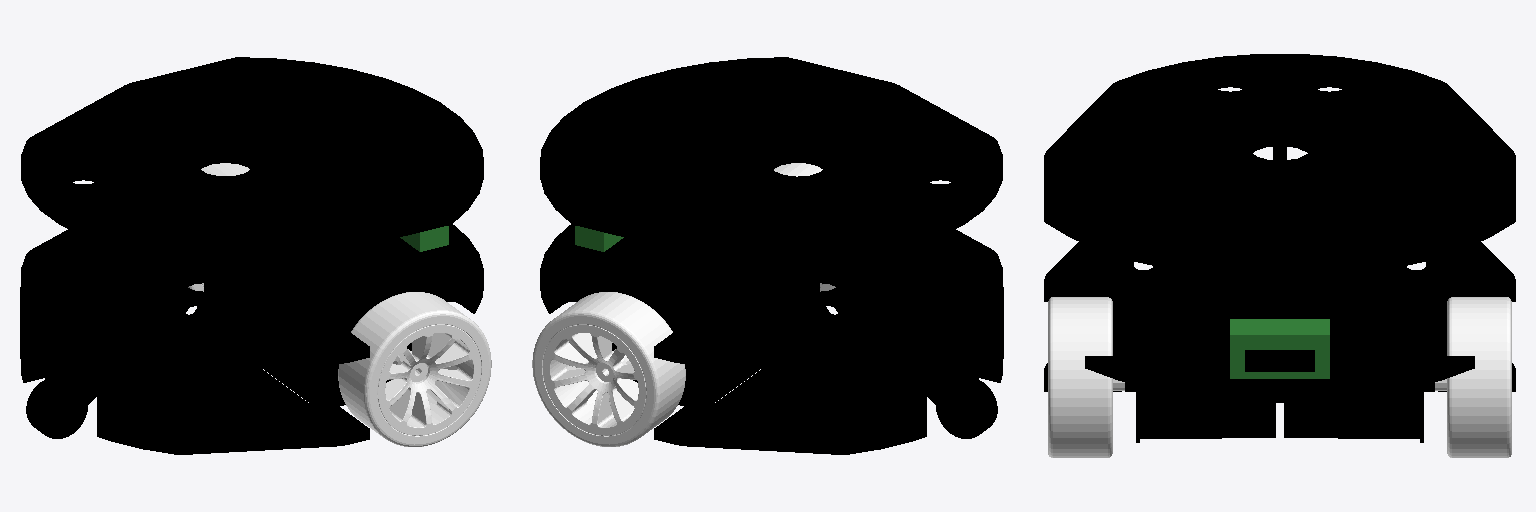
The robot description file, URDF, robot "smart_car":
<?xml version="1.0"?>
<robot name="smart_car">
    <material name="black">
        <color rgba="0 0 0 1"/>
    </material>
    <material name="white">
        <color rgba="1 1 1 1"/>
    </material>
    <material name="blue">
        <color rgba="0.0 0.0 0.8 1.0"/>
    </material>

    <link name="base_footprint"/>
    
    <joint name="bash_link_joint" type="fixed">
        <axis rpy="0 0 0" xyz="0 0 0"/>
        <origin rpy="0 0 0" xyz="0 0 0.0565"/>
        <parent link="base_footprint"/>
        <child link="base_link"/>
    </joint>

    <link name="base_link">
        <visual>
            <origin xyz="0 0 0" rpy="0 0 0"/>
            <geometry>
                <mesh filename="package://robot_description/meshes/base_link.dae"/>
            </geometry>
            <material name="black"/>
        </visual>
        <inertial>
            <origin xyz="-0.036932 -3.6183E-09 5.4279E-05" rpy="0 0 0"/>
            <mass value="0.62461"/>
            <inertia ixx="0.002014" ixy="3.2092E-10" ixz="-5.0446E-05" iyy="0.0023871" iyz="5.0493E-08" izz="0.0027336"/>
        </inertial>
        <collision>
            <origin xyz="0 0 0" rpy="0 0 0"/>
            <geometry>
                <mesh filename="package://robot_description/meshes/base_link.dae"/>
            </geometry>
        </collision>
    </link>


    <link name="right_wheel">
        <visual>
            <origin xyz="0 0 0" rpy="0 0 0"/>
            <geometry>
                <mesh filename="package://robot_description/meshes/right_wheel.dae"/>
            </geometry>
            <material name="white"/>
        </visual>
        <inertial>
            <origin xyz="0 -0.0033767 0" rpy="0 0 0"/>
            <mass value="0.052928"/>
            <inertia ixx="2.1269E-05" ixy="-7.7807E-22" ixz="2.6095E-21" iyy="3.6821E-05" iyz="-1.6034E-21" izz="2.1269E-05"/>
        </inertial>
        <collision>
            <origin xyz="0 0 0" rpy="0 0 0"/>
            <geometry>
                <mesh filename="package://robot_description/meshes/right_wheel.dae"/>
            </geometry>
        </collision>
    </link>
    <joint name="right_wheel_joint" type="continuous">
        <axis xyz="0 1 0"/>
        <origin rpy="-7.0774E-16 -6.9389E-18 9.8142E-17" xyz="0 -0.0775 -0.024"/>
        <limit effort="0.5" velocity="100"/>
        <dynamics damping="0.0" friction="0.5"/>
        <parent link="base_link"/>
        <child link="right_wheel"/>
    </joint>

    <link name="left_wheel">
        <visual>
            <origin xyz="0 0 0" rpy="0 0 0"/>
            <geometry>
                <mesh filename="package://robot_description/meshes/left_wheel.dae"/>
            </geometry>
            <material name="white"/>
        </visual>
        <inertial>
            <origin xyz="0 0.0033767 0" rpy="0 0 0"/>
            <mass value="0.052928"/>
            <inertia ixx="2.1269E-05" ixy="-8.5384E-22" ixz="-1.5763E-21" iyy="3.6821E-05" iyz="1.4005E-21" izz="2.1269E-05"/>
        </inertial>
        <collision>
            <origin xyz="0 0 0" rpy="0 0 0"/>
            <geometry>
                <mesh filename="package://robot_description/meshes/left_wheel.dae"/>
            </geometry>
        </collision>
    </link>
    <joint name="left_wheel_joint" type="continuous">
        <axis xyz="0 1 0"/>
        <origin rpy="-7.0774E-16 -6.9389E-18 9.8142E-17" xyz="0 0.0775 -0.024"/>
        <limit effort="0.5" velocity="100"/>
        <dynamics damping="0.0" friction="0.5"/>
        <parent link="base_link"/>
        <child link="left_wheel"/>
    </joint>    

    <link name="laser_link">
        <inertial>
            <mass value="1e-5"/>
            <origin rpy="0 0 0" xyz="0 0 0"/>
            <inertia ixx="1e-6" ixy="0" ixz="0" iyy="1e-6" iyz="0" izz="1e-6"/>
        </inertial>
        <visual>
            <origin rpy="0 0 0" xyz="0 0 0"/>
            <geometry>
                <mesh filename="package://robot_description/meshes/rplidar.dae"/>
            </geometry>
            <material name="blue"/>
        </visual>
        <collision>
            <origin rpy="0 0 0" xyz="0 0 0"/>
            <geometry>
                <mesh filename="package://robot_description/meshes/rplidar.dae"/> 
            </geometry>
        </collision>
    </link>
    <joint name="laser_link_joint" type="fixed">
        <axis xyz="0 1 0"/>
        <origin xyz="-0.045 0.0 0.07" rpy="0 0 0" />
        <parent link="base_link"/>
        <child link="laser_link"/>
    </joint>

    <link name="sonar">
        <inertial>
            <mass value="1e-5"/>
            <origin rpy="0 0 0" xyz="0 0 0"/>
            <inertia ixx="1e-6" ixy="0" ixz="0" iyy="1e-6" iyz="0" izz="1e-6"/>
        </inertial>
         <visual>
            <origin rpy="0 0 0" xyz="0 0 0"/>
            <geometry>
                <box size="0.015 0.04 0.02"/>
            </geometry>
            <material name="my_green">
                <color rgba="0.24 0.56 0.26 1.0"/>
            </material>
        </visual>
        <collision>
            <origin rpy="0 0 0" xyz="0 0 0"/>
            <geometry>
                <box size="0.015 0.04 0.02"/>
            </geometry>
        </collision>
    </link>
    <joint name="sonar_joint" type="fixed">
        <axis xyz="0 1 0"/>
        <origin xyz="0.045 0 0.0095"/>
        <parent link="base_link"/>
        <child link="sonar"/>
    </joint>

    <link name="infrared">
        <inertial>
            <mass value="1e-5"/>
            <origin rpy="0 0 0" xyz="0 0 0"/>
            <inertia ixx="1e-6" ixy="0" ixz="0" iyy="1e-6" iyz="0" izz="1e-6"/>
        </inertial>
         <visual>
            <origin rpy="0 0 0" xyz="0 0 0"/>
            <geometry>
                <box size="0.01 0.028 0.008"/>
            </geometry>
            <material name="black">
                <color rgba="0 0 0 1"/>
            </material>
        </visual>
        <collision>
            <origin rpy="0 0 0" xyz="0 0 0"/>
            <geometry>
                <box size="0.01 0.028 0.008"/>
            </geometry>
        </collision>
    </link>
    <joint name="infrared_joint" type="fixed">
        <axis xyz="0 1 0"/>
        <origin xyz="0.052 0 0.009"/>
        <parent link="base_link"/>
        <child link="infrared"/>
    </joint>

</robot>

--- Render facts (derived) ---
3 views of the same robot in one strip: view 1: azimuth 30°, elevation 25°; view 2: azimuth 150°, elevation 25°; view 3: azimuth 270°, elevation 25° (orthographic).
Robot: smart_car — 7 links, 6 joints (2 continuous, 4 fixed); root link base_footprint; default pose: every joint at zero.
Visible links, largest first — view 1: base_link, right_wheel, sonar, left_wheel; view 2: base_link, left_wheel, sonar, right_wheel; view 3: base_link, right_wheel, left_wheel, sonar, infrared.
Link boxes in pixels (x1,y1,x2,y2): base_link: [20, 57, 483, 454]; right_wheel: [338, 292, 491, 446]; sonar: [400, 226, 448, 251]; left_wheel: [188, 163, 249, 291]; base_link: [540, 57, 1003, 454]; left_wheel: [532, 292, 685, 446]; sonar: [575, 226, 623, 251]; right_wheel: [774, 163, 835, 291]; base_link: [1044, 54, 1515, 442]; right_wheel: [1048, 297, 1124, 457]; left_wheel: [1435, 297, 1511, 457]; sonar: [1230, 319, 1329, 378]; infrared: [1245, 350, 1314, 371].
Bounding box of the posed robot: 0.214 × 0.19 × 0.1115 m (x, y, z).
3 mesh visuals loaded from 4 distinct referenced files (3 Collada DAE); not drawn: 1 (reference not matched to a file when rendering).